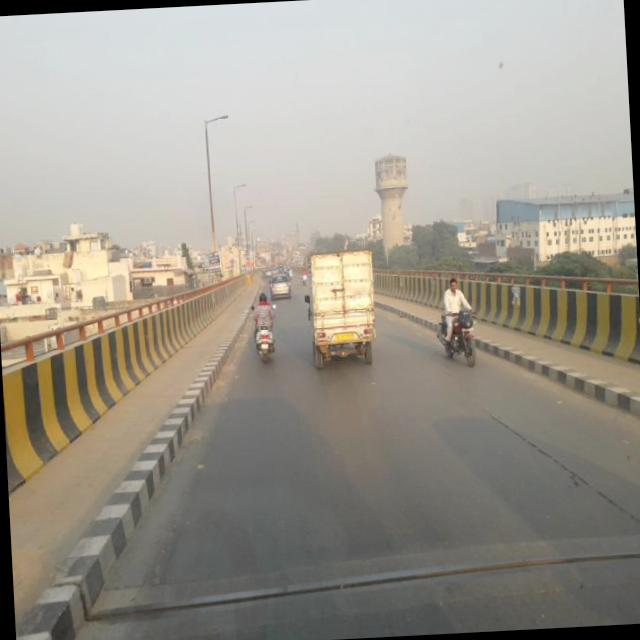pothole: (469, 386, 630, 532)
